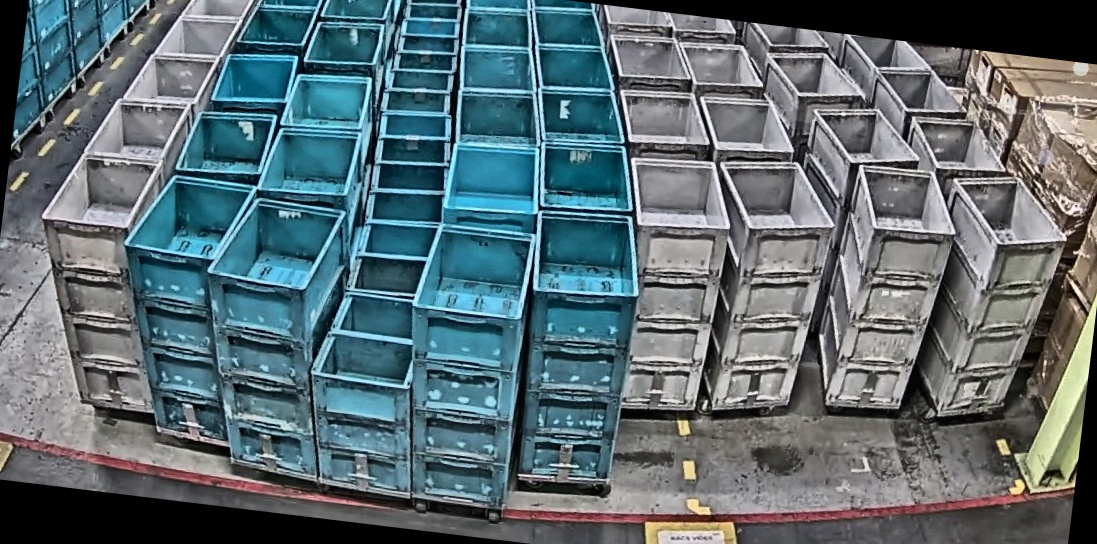4G: (19, 146, 185, 414), (911, 168, 1073, 424), (691, 153, 842, 422), (810, 160, 963, 419), (601, 153, 738, 419)
B4: (188, 186, 351, 477), (102, 169, 259, 442), (389, 220, 537, 507), (506, 205, 648, 486)
B8: (298, 288, 434, 493)
